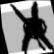not correct: (5, 0, 54, 54)
